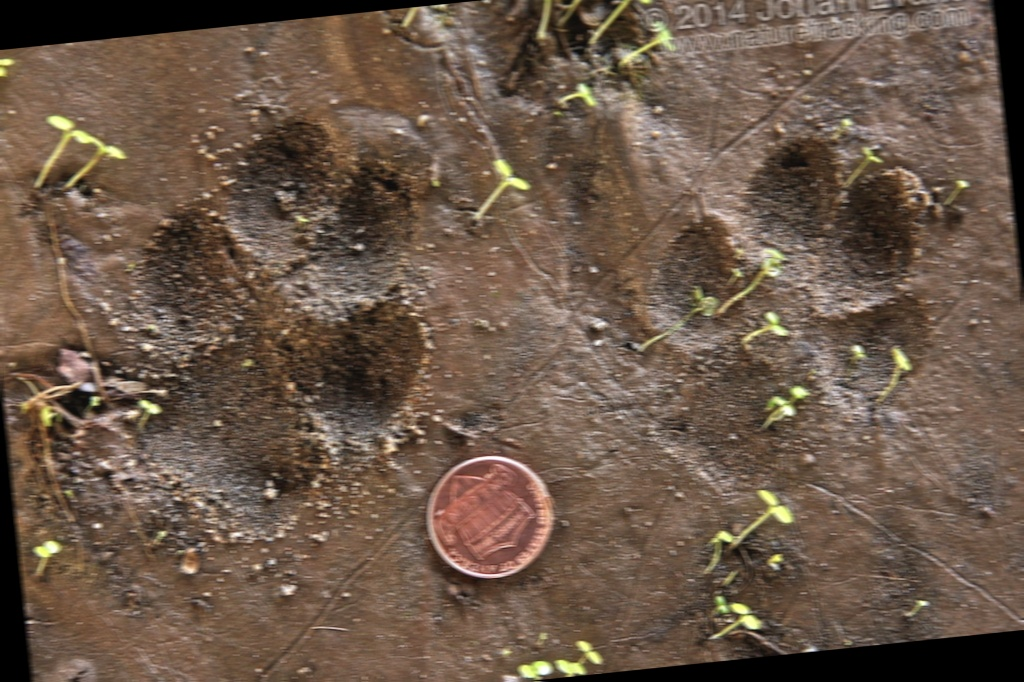coyote: (79, 109, 453, 562), (641, 116, 956, 462)
